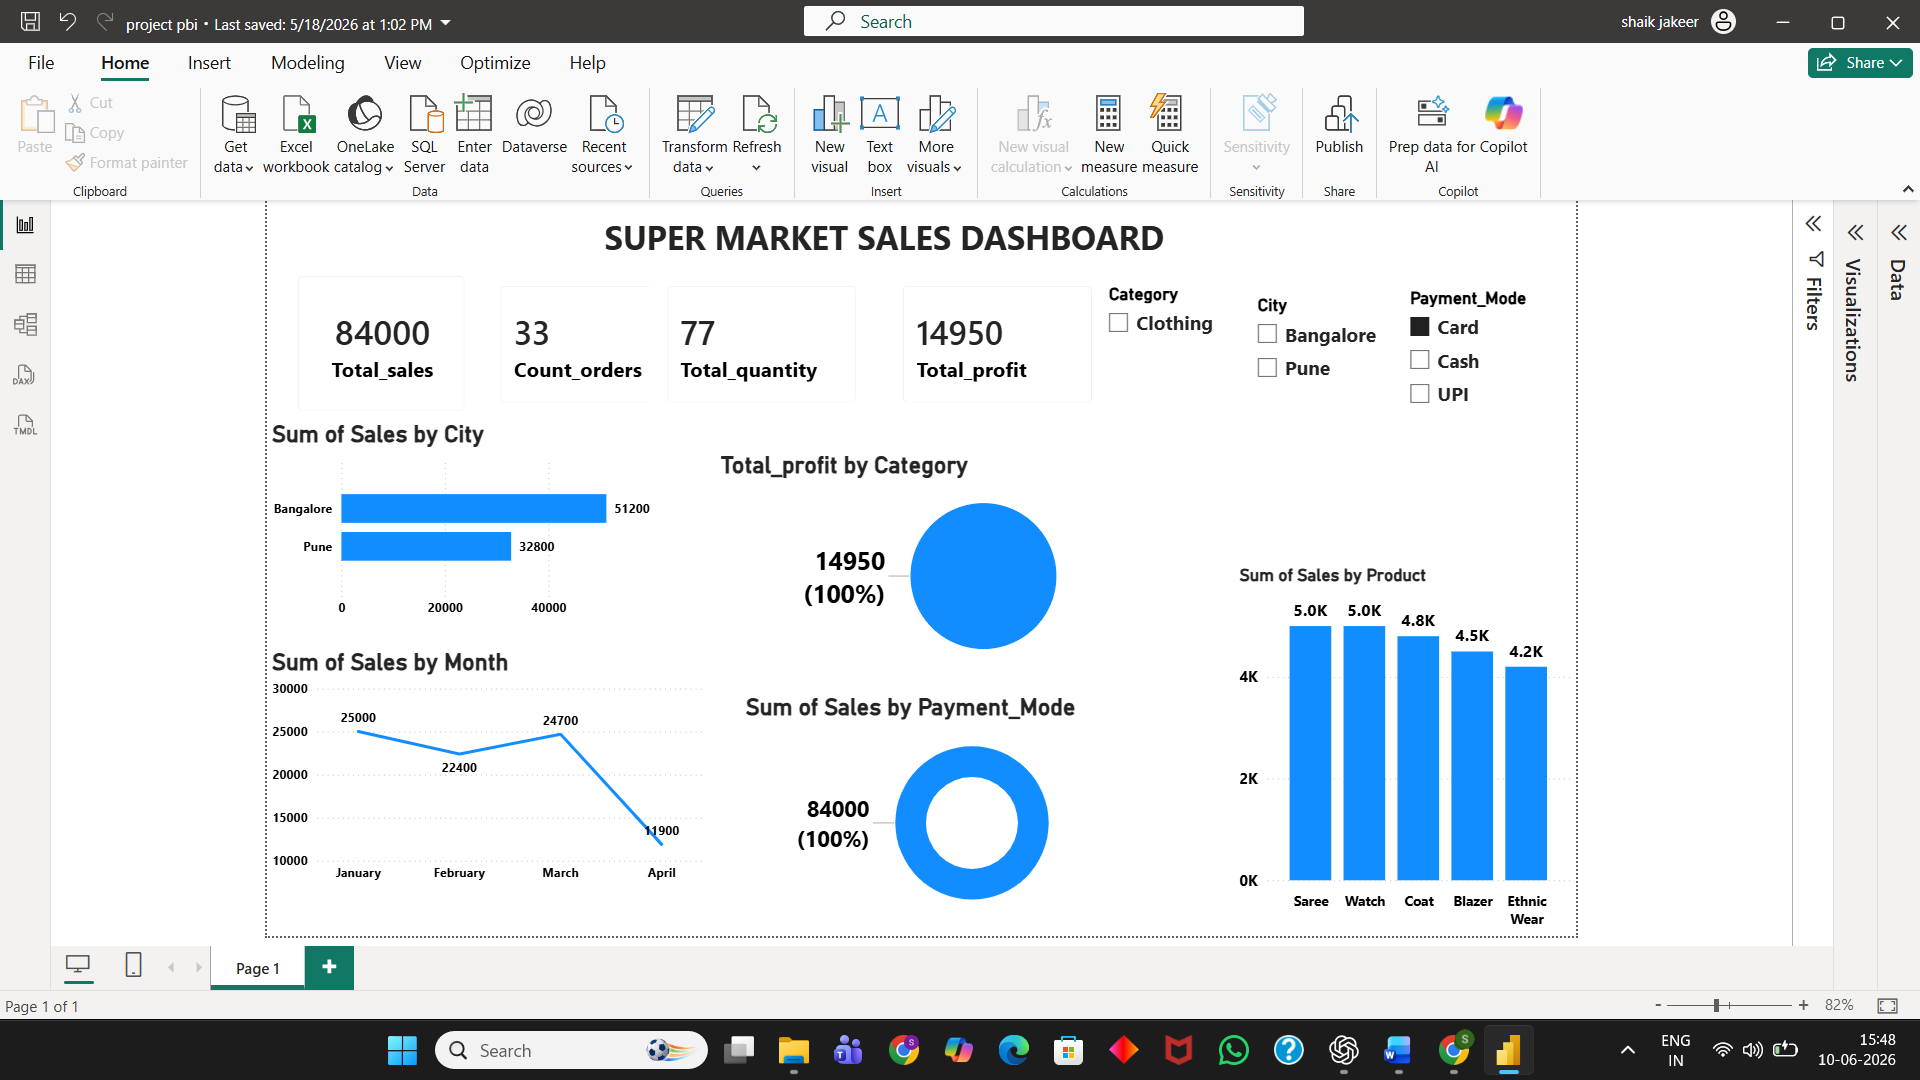

This screenshot's page, from the dashboard's own definition file:
{"tool":"powerbi","page":{"name":"Page 1","canvas":[1280,720],"ordinal":0},"visuals":[{"type":"textbox","box":[325.2,9.6,559.9,67.2],"z":0},{"type":"cardVisual","fields":{"Data":["super marker sales.Total_sales"]},"box":[13.7,57.6,197.6,166],"z":1000},{"type":"cardVisual","fields":{"Data":["super marker sales.Count_orders"]},"box":[211.3,67.2,189.4,148.2],"z":2000},{"type":"cardVisual","fields":{"Data":["super marker sales.Total_quantity"]},"box":[374.6,67.2,219.6,148.2],"z":3000},{"type":"cardVisual","fields":{"Data":["super marker sales.Total_profit"]},"box":[605.1,67.2,219.6,148.2],"z":4000},{"type":"barChart","fields":{"Category":["super marker sales.City"],"Y":["Sum(super marker sales.Sales)"]},"box":[0,215.4,397.9,201.7],"z":5000},{"type":"pieChart","fields":{"Y":["super marker sales.Total_profit"],"Category":["super marker sales.Category"]},"box":[439.1,245.6,524.2,218.2],"z":6000},{"type":"lineChart","fields":{"Category":["super marker sales.Date.Variation.Date Hierarchy.Month"],"Y":["Sum(super marker sales.Sales)"]},"box":[0,437.7,430.9,238.8],"z":7000},{"type":"donutChart","fields":{"Category":["super marker sales.Payment_Mode"],"Y":["Sum(super marker sales.Sales)"]},"box":[463.8,481.6,452.8,229.2],"z":8000},{"type":"clusteredColumnChart","fields":{"Category":["super marker sales.Product"],"Y":["Sum(super marker sales.Sales)"]},"box":[946.8,356.8,333.4,363.6],"z":8001},{"type":"slicer","fields":{"Values":["super marker sales.City"]},"box":[956.4,87.8,149.6,229.2],"z":8003},{"type":"slicer","fields":{"Values":["super marker sales.Category"]},"box":[811,76.8,149.6,134.5],"z":8004},{"type":"slicer","fields":{"Values":["super marker sales.Payment_Mode"]},"box":[1106,81,174.3,259.3],"z":8005}]}

Visuals, with their boxes on the page's 1280x720 design canvas (x1, y1, x2, y2). These are canvas units, not pixel positions in the 1920x1080 screenshot, which may show the page scaled, cropped or inside an application window:
textbox: left=325, top=10, right=885, bottom=77
cardVisual - super marker sales.Total_sales: left=14, top=58, right=211, bottom=224
cardVisual - super marker sales.Count_orders: left=211, top=67, right=401, bottom=215
cardVisual - super marker sales.Total_quantity: left=375, top=67, right=594, bottom=215
cardVisual - super marker sales.Total_profit: left=605, top=67, right=825, bottom=215
barChart - super marker sales.City x Sum(super marker sales.Sales): left=0, top=215, right=398, bottom=417
pieChart - super marker sales.Total_profit x super marker sales.Category: left=439, top=246, right=963, bottom=464
lineChart - super marker sales.Date.Variation.Date Hierarchy.Month x Sum(super marker sales.Sales): left=0, top=438, right=431, bottom=676
donutChart - super marker sales.Payment_Mode x Sum(super marker sales.Sales): left=464, top=482, right=917, bottom=711
clusteredColumnChart - super marker sales.Product x Sum(super marker sales.Sales): left=947, top=357, right=1280, bottom=720
slicer - super marker sales.City: left=956, top=88, right=1106, bottom=317
slicer - super marker sales.Category: left=811, top=77, right=961, bottom=211
slicer - super marker sales.Payment_Mode: left=1106, top=81, right=1280, bottom=340
